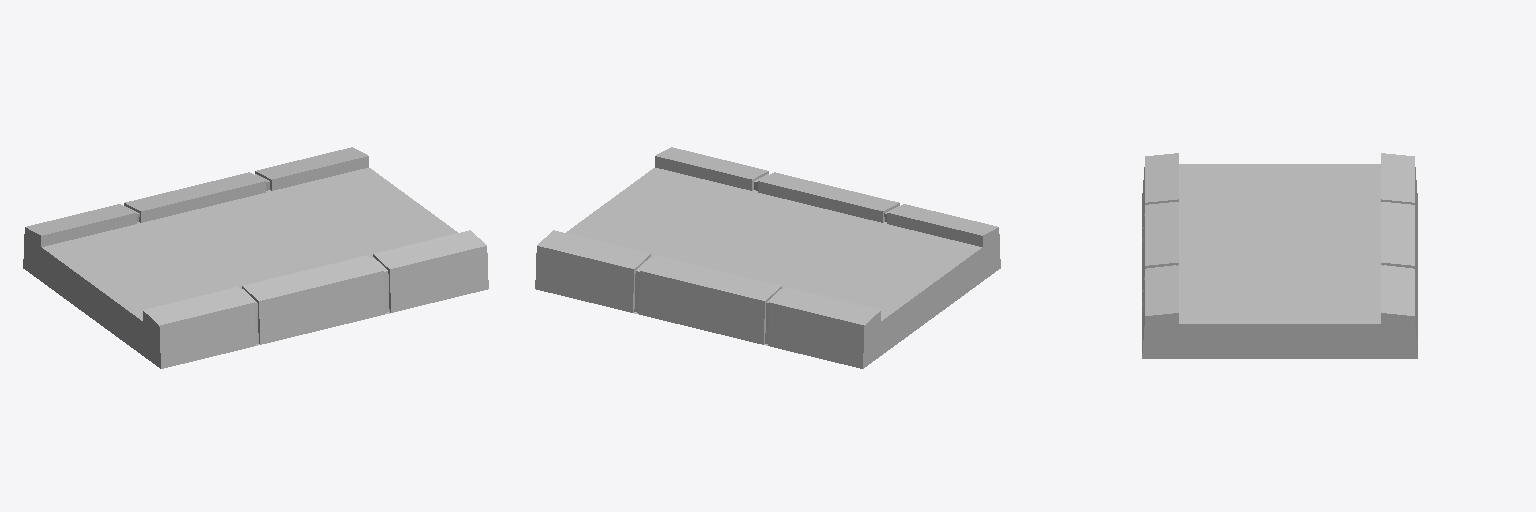
File: Road Straight.obj
3 renders of one model, left to right at view 1: azimuth 30°, elevation 25°; view 2: azimuth 150°, elevation 25°; view 3: azimuth 270°, elevation 25°, orthographic.
Visible parts, largest first — view 1: ROAD__Plain; view 2: ROAD__Plain; view 3: ROAD__Plain.
Boxes of the visible parts, <box> form: ROAD__Plain: <box>23,147,488,368</box>; ROAD__Plain: <box>535,147,1000,368</box>; ROAD__Plain: <box>1142,153,1417,358</box>.
Bounding box in the file's own units: 80 × 10.74 × 58.32.